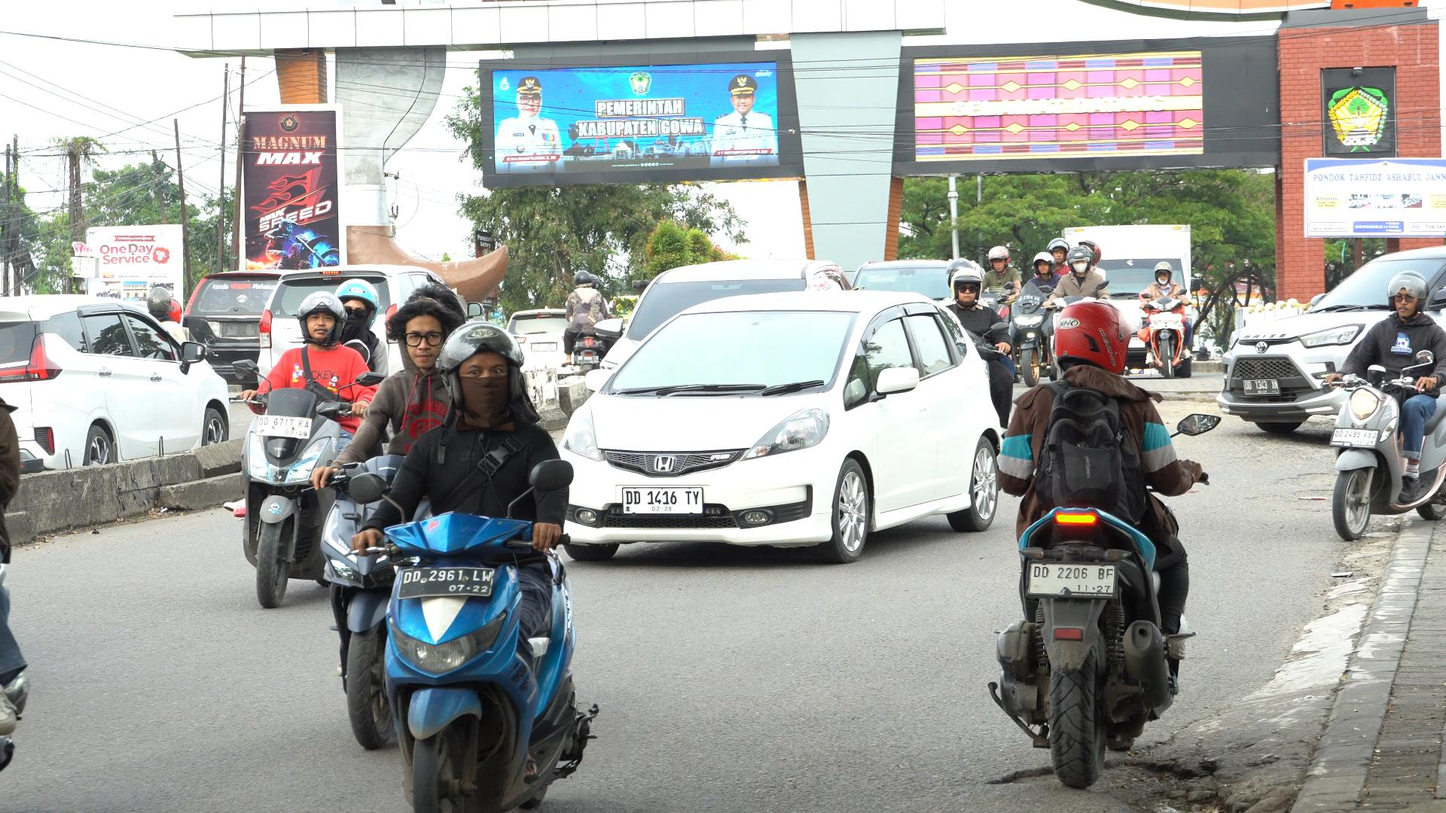number-plate: (399, 563, 491, 602), (250, 411, 315, 444)
